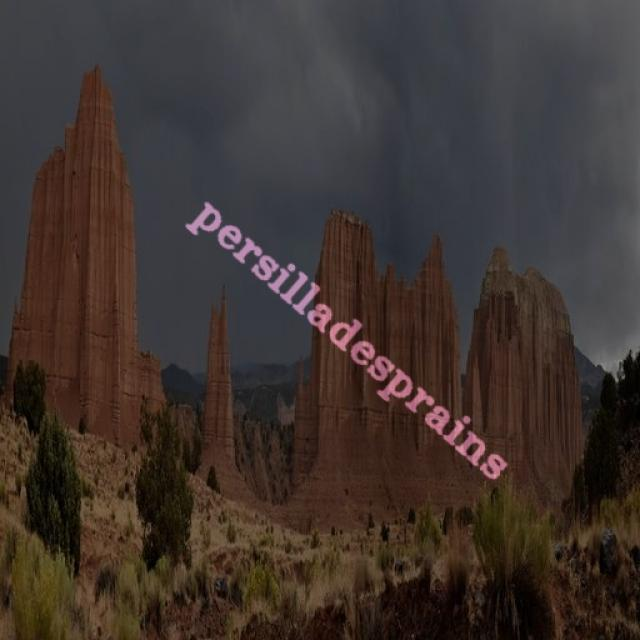watermark: (181, 185, 526, 490)
